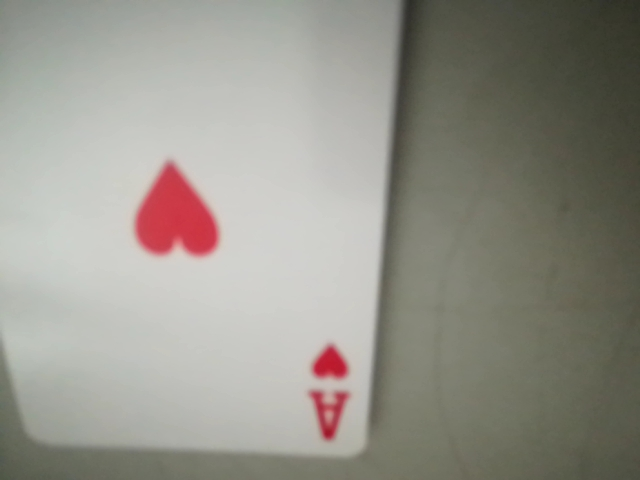hx a: (302, 343, 366, 450)
